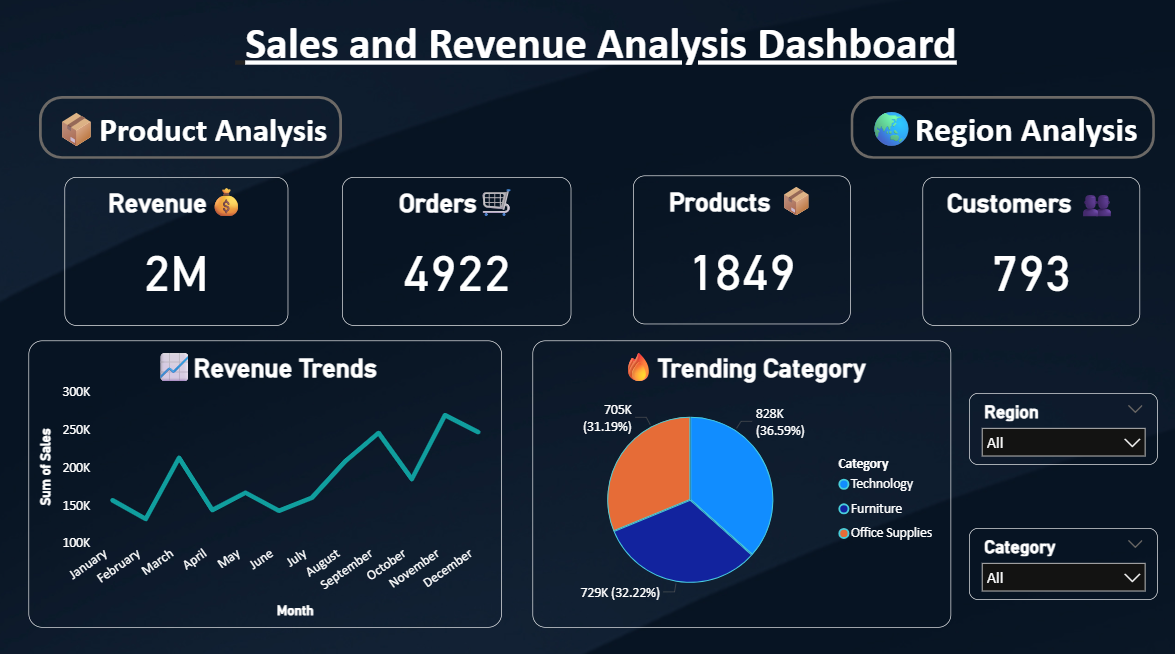

The page's visual inventory and layout, read from the dashboard file:
{"tool":"powerbi","page":{"name":"Overview","canvas":[1280,720],"ordinal":0},"visuals":[{"type":"textbox","box":[213.1,0,876.7,92.7],"z":0},{"type":"card","title":"  Revenue💰","fields":{"Values":["Sum(train.Sales)"]},"box":[73.2,198.4,242.4,161],"z":1000},{"type":"card","title":"Orders🛒","fields":{"Values":["Count(train.Order ID)"]},"box":[374.1,198.4,248.9,161],"z":2000},{"type":"card","title":"Products 📦","fields":{"Values":["Count(train.Product Name)"]},"box":[689.7,196.8,235.8,161],"z":3000},{"type":"card","title":"Customers 👥","fields":{"Values":["Count(train.Customer ID)"]},"box":[1003.6,198.4,235.8,161],"z":4000},{"type":"lineChart","title":"📈Revenue Trends","fields":{"Category":["train.Order Date.Variation.Date Hierarchy.Month"],"Y":["Sum(train.Sales)"]},"box":[34.8,376,513.5,311.4],"z":5000},{"type":"pieChart","title":"🔥Trending Category","fields":{"Category":["train.Category"],"Y":["Sum(train.Sales)"]},"box":[581.4,376,453.9,311.4],"z":6000},{"type":"slicer","fields":{"Values":["train.Region"]},"box":[1054,432.7,204.9,78.1],"z":7000},{"type":"slicer","fields":{"Values":["train.Category"]},"box":[1054,579,204.9,78.1],"z":8000},{"type":"actionButton","box":[925.5,110.6,330.2,68.3],"z":9000},{"type":"actionButton","box":[45.5,110.6,328.6,68.3],"z":10000}]}

Visuals, with their boxes in screenshot pixels (x1, y1, x2, y2), scaled from the page's 1280x720 canvas onto the 1175x654 screenshot:
textbox: Rect(196, 0, 1000, 84)
"  Revenue💰" card: Rect(67, 180, 290, 326)
"Orders🛒" card: Rect(343, 180, 572, 326)
"Products 📦" card: Rect(633, 179, 850, 325)
"Customers 👥" card: Rect(921, 180, 1138, 326)
"📈Revenue Trends" lineChart: Rect(32, 342, 503, 624)
"🔥Trending Category" pieChart: Rect(534, 342, 950, 624)
slicer - train.Region: Rect(968, 393, 1156, 464)
slicer - train.Category: Rect(968, 526, 1156, 597)
actionButton: Rect(850, 100, 1153, 163)
actionButton: Rect(42, 100, 343, 163)
